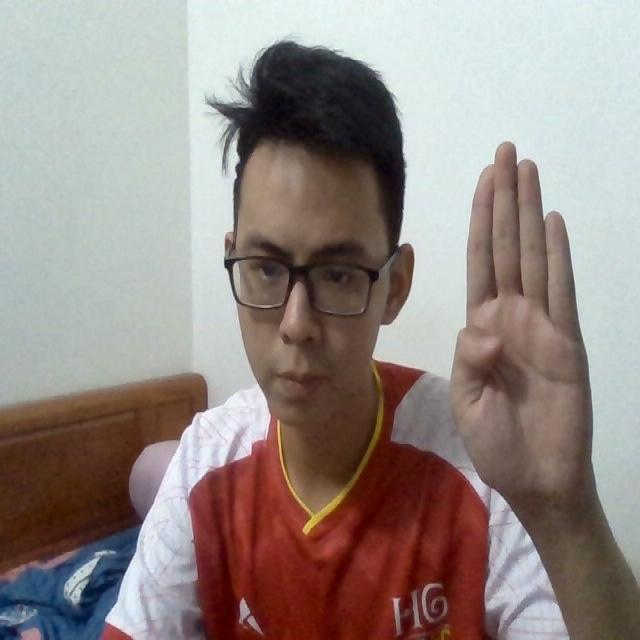B: (453, 140, 598, 509)
